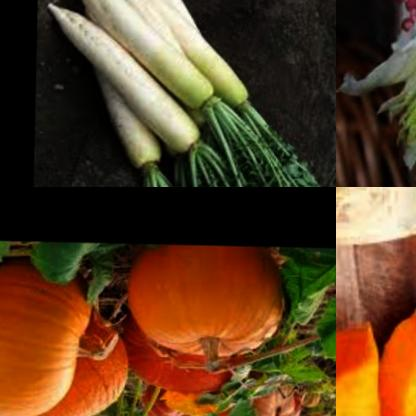pumpkin: (127, 244, 284, 364), (0, 258, 100, 416), (13, 304, 131, 416), (122, 312, 238, 396), (369, 280, 416, 416), (336, 317, 391, 416), (336, 187, 416, 250), (201, 376, 306, 416), (136, 386, 188, 416)
redka: (48, 0, 258, 164)
salad: (363, 0, 416, 179)
